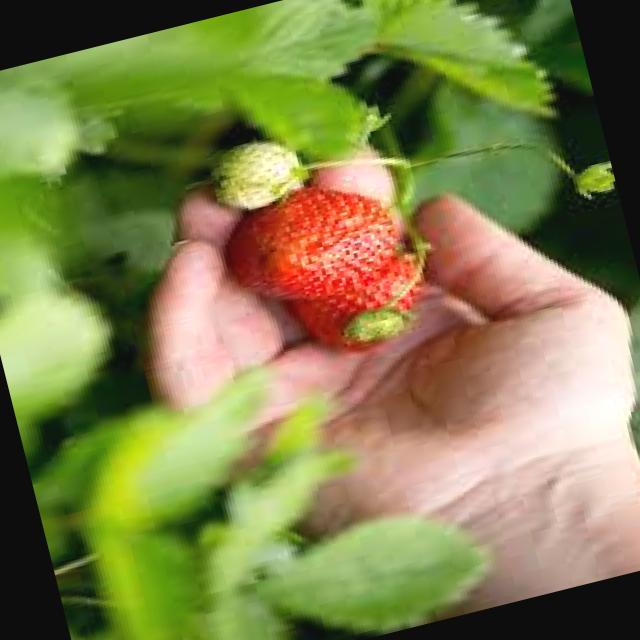strawberry: (204, 159, 428, 324)
